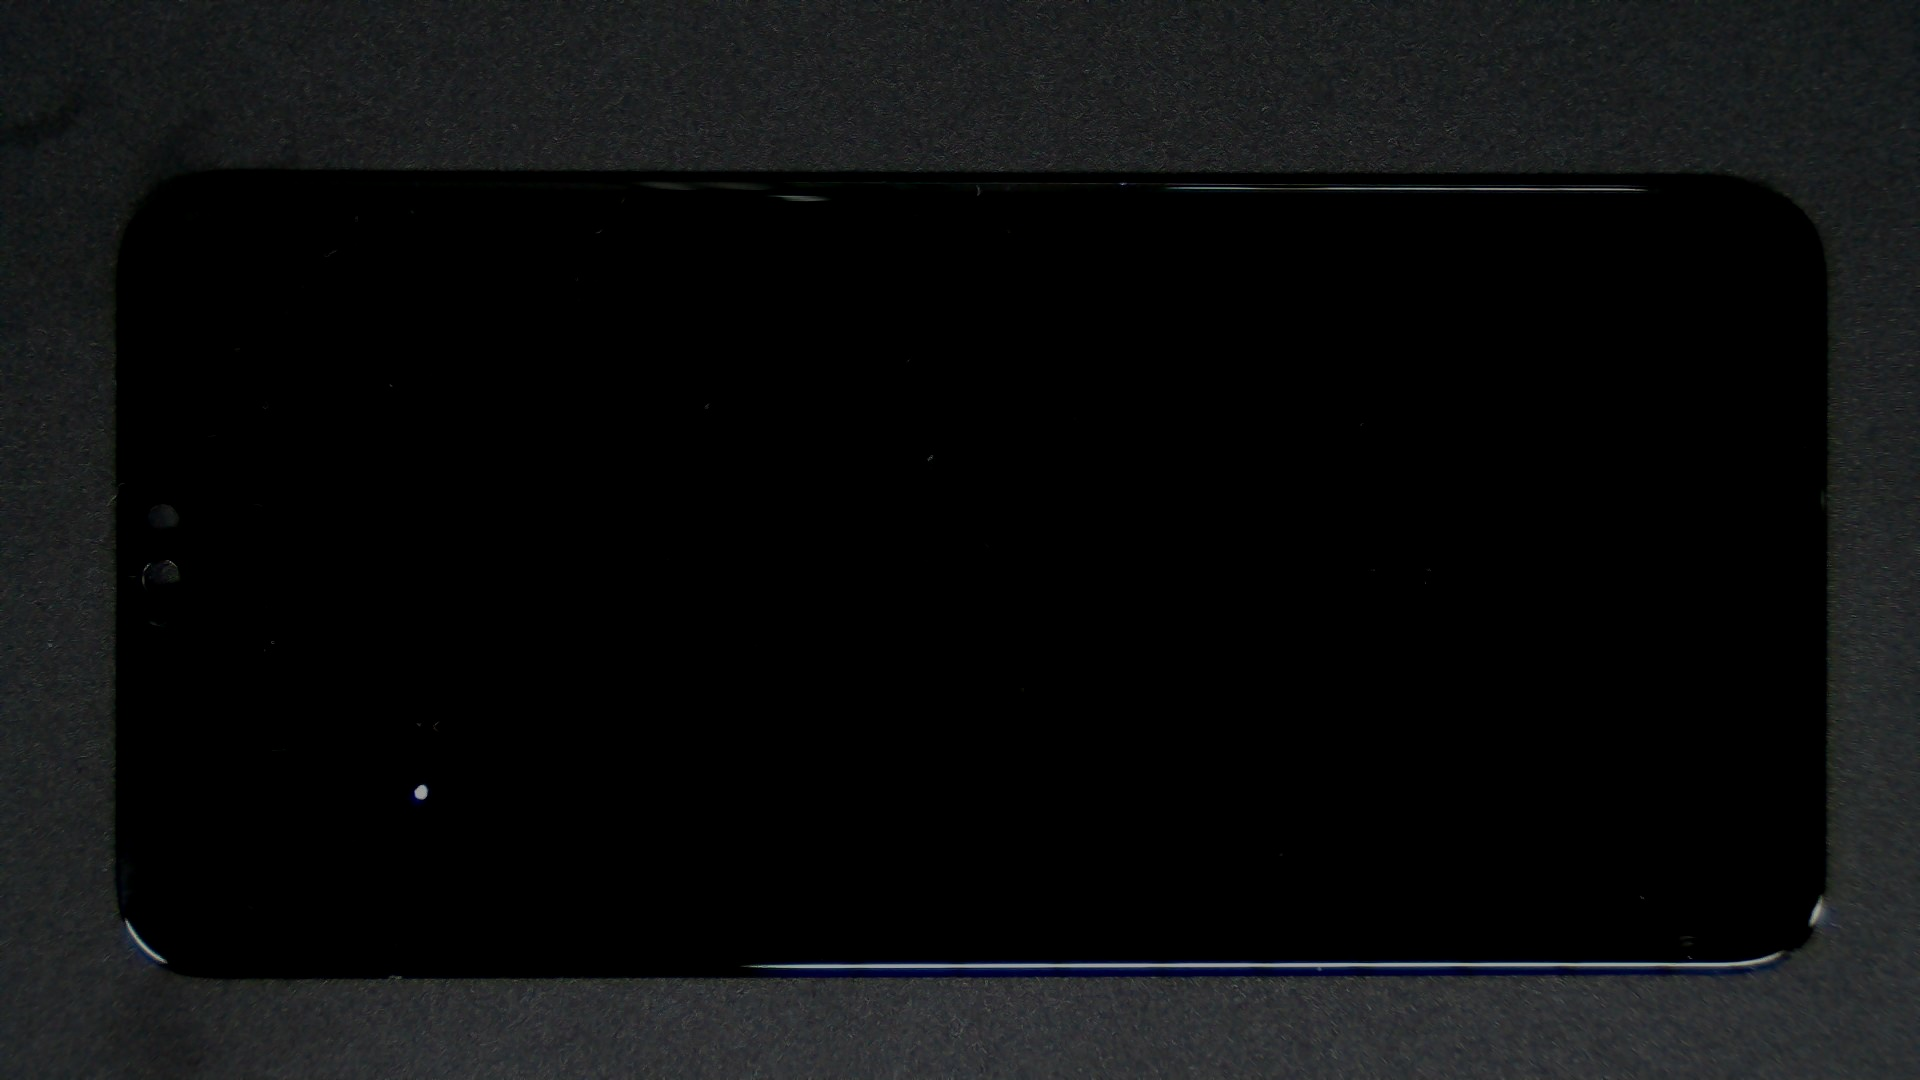oil: (212, 392, 634, 1080)
